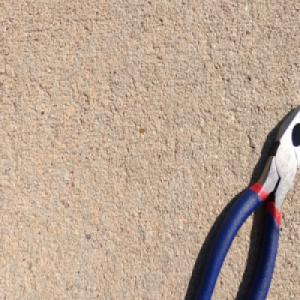Pliers: (190, 99, 300, 300)
